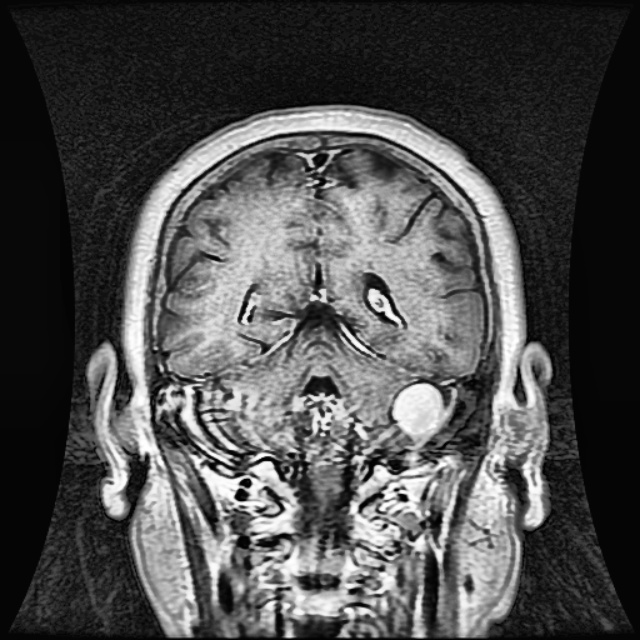Glioma: (393, 382, 443, 438)
